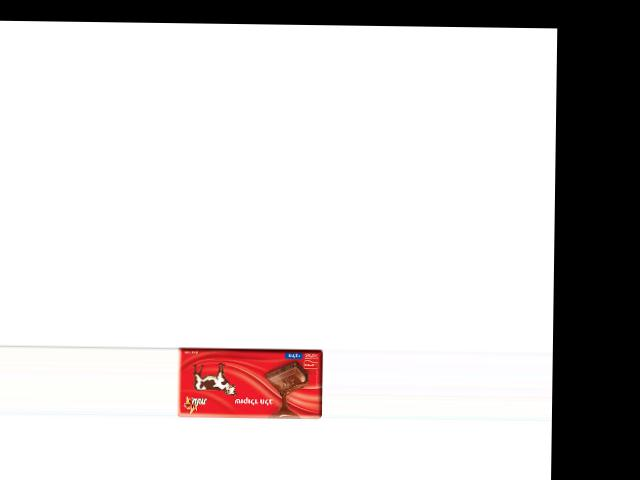chocolate: (175, 348, 323, 419)
